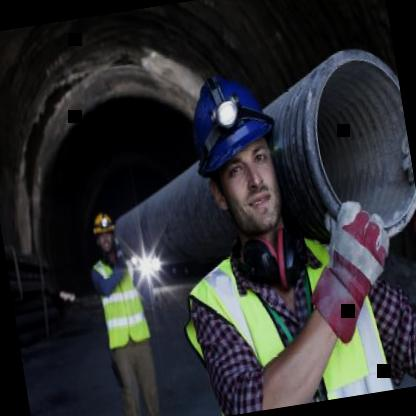helmet: (179, 69, 295, 250), (86, 204, 119, 256)
